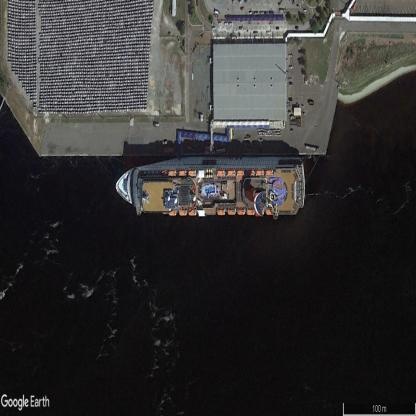ship: (117, 158, 306, 218)
